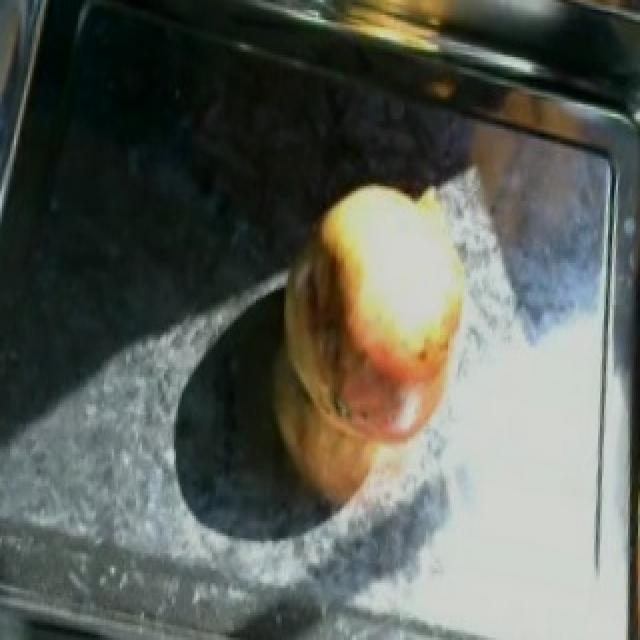fruit: (260, 159, 490, 434)
